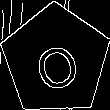O_N: (28, 29, 83, 91)
